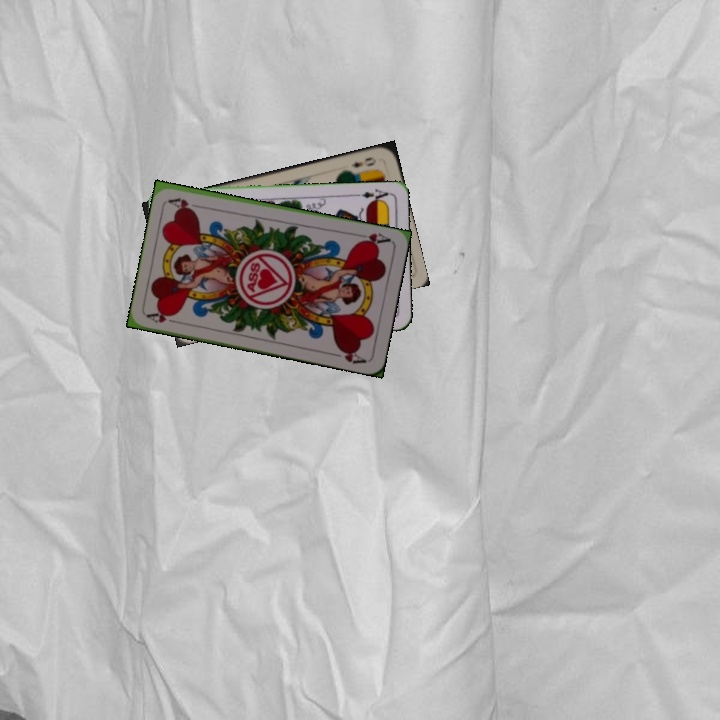EA: (351, 185, 392, 205)
EO: (347, 153, 379, 170)
HA: (352, 229, 393, 248), (144, 308, 184, 327)
